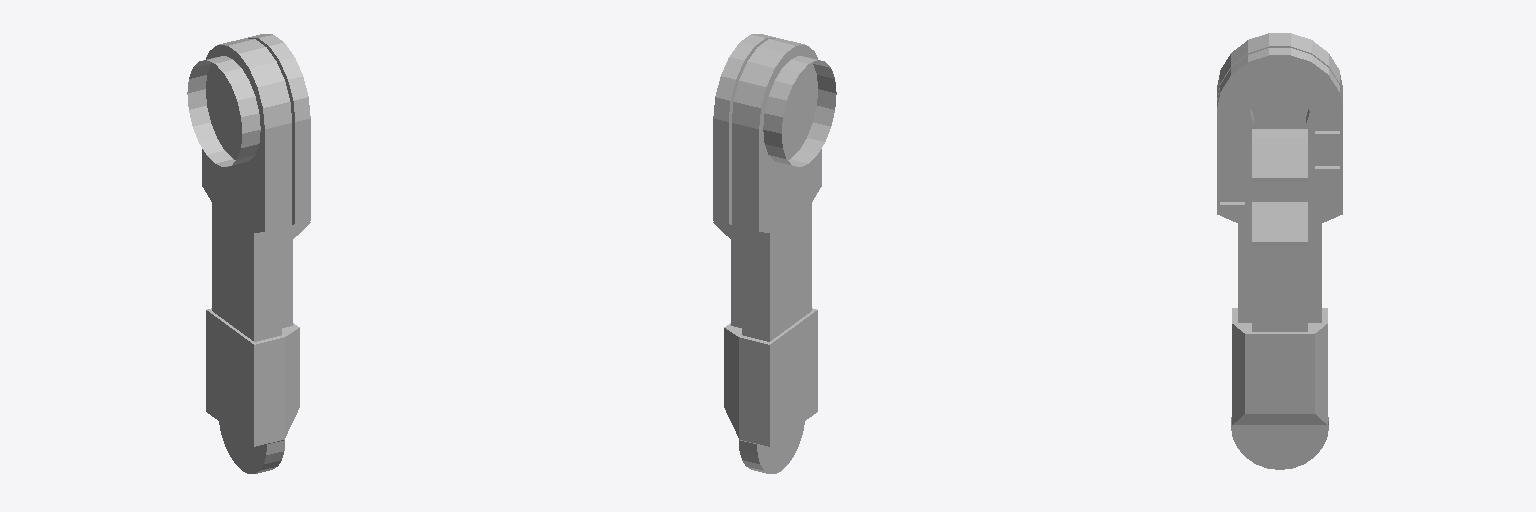
Rendered from R2D2Arm.obj.
The picture shows the model from 3 angles: view 1: azimuth 30°, elevation 25°; view 2: azimuth 150°, elevation 25°; view 3: azimuth 270°, elevation 25°; orthographic projection.
Parts seen in each view (by area): view 1: r2d2; view 2: r2d2; view 3: r2d2.
Boxes of the visible parts, box(x1,y1,x2,y2) form: r2d2: box(187, 34, 310, 473); r2d2: box(713, 34, 836, 473); r2d2: box(1217, 33, 1342, 469).
Size of the model in its own units: 0.6361 by 3.14 by 0.8504.